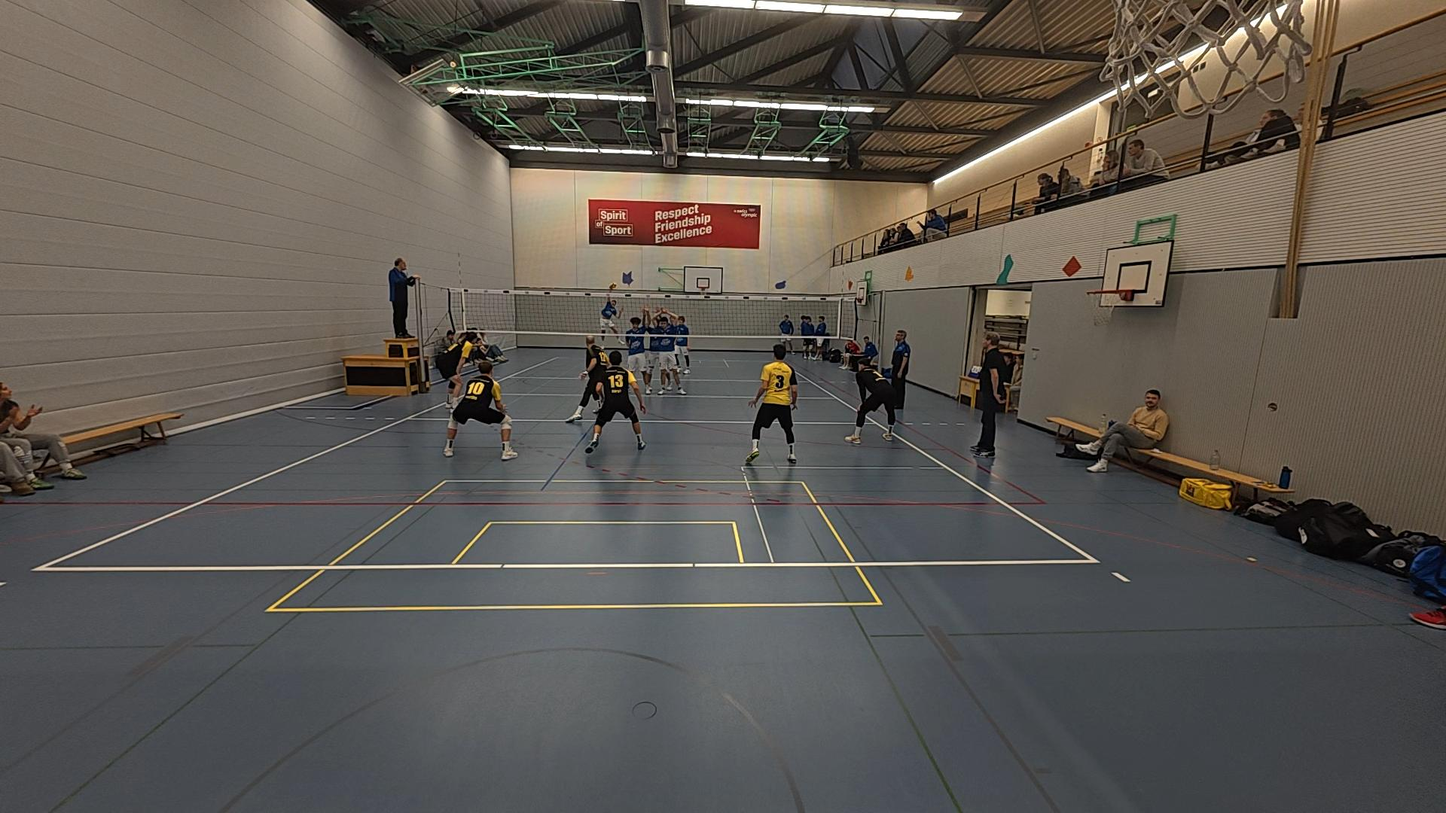battuta: (599, 291, 624, 346)
